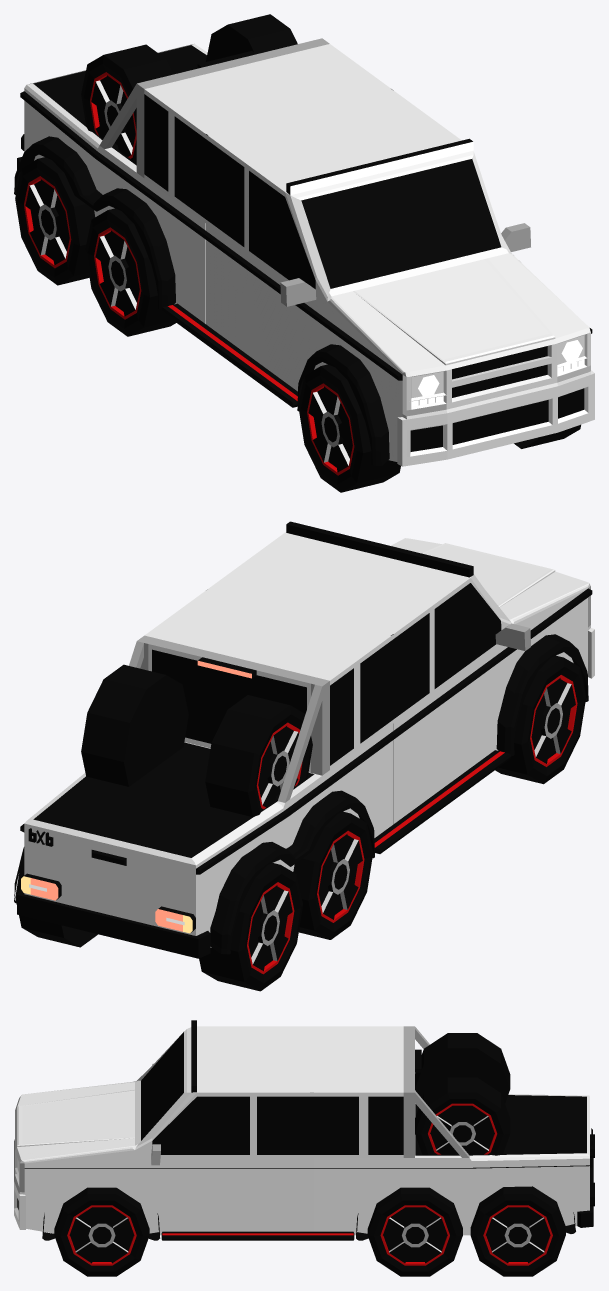
Rendered from 6x6-Selection.glb.
The picture shows the model from 3 angles, top to bottom: view 1: azimuth 30°, elevation 25°; view 2: azimuth 150°, elevation 25°; view 3: azimuth 270°, elevation 25°; orthographic projection. The views are drawn at different scales.
Visible parts, largest first — view 1: Plane.003; view 2: Plane.003; view 3: Plane.003.
Part boxes in pixels (x1,y1,x2,y2): Plane.003: [14, 14, 594, 492]; Plane.003: [14, 521, 594, 991]; Plane.003: [14, 1020, 594, 1276].
Size of the model in its own units: 4.8 by 4.7 by 13.49.
